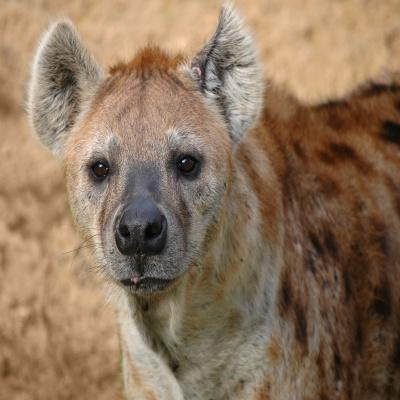hyenas: (6, 18, 400, 400)
